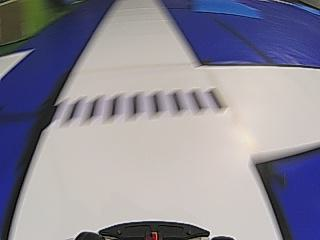CrossWalk: (47, 83, 232, 128)
